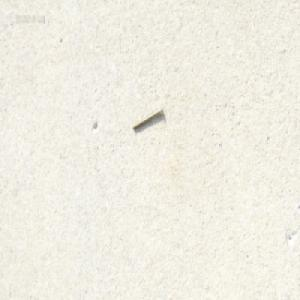Bolt: (132, 106, 163, 131)
